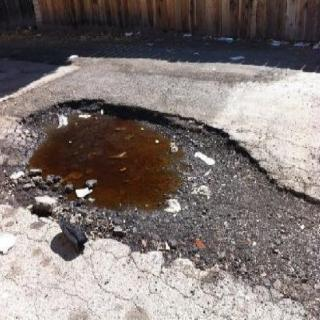pothole: (0, 100, 320, 320)
